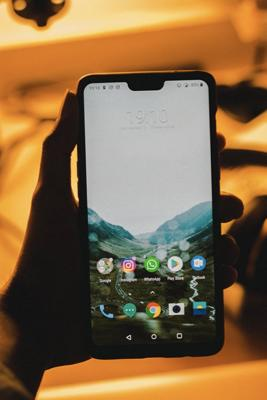Mobile Phone: (75, 69, 225, 359)
